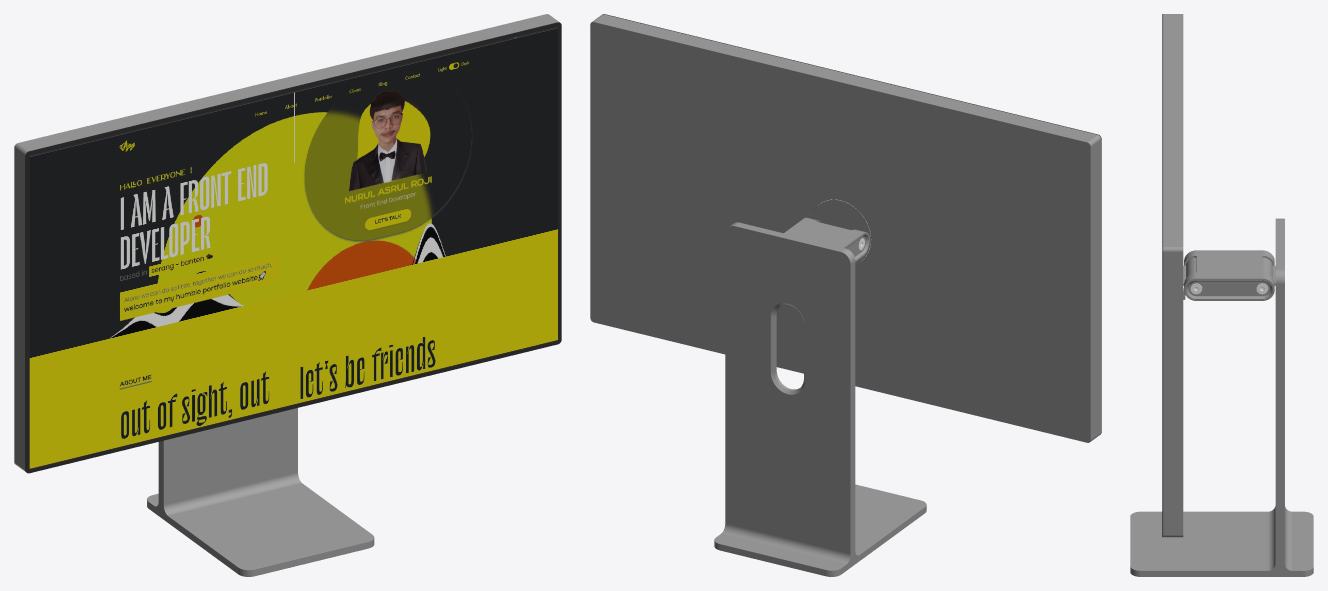
Rendered from porto.glb.
3 renders of one model, left to right at view 1: azimuth 30°, elevation 25°; view 2: azimuth 150°, elevation 25°; view 3: azimuth 270°, elevation 25°, orthographic. The views are drawn at different scales.
Visible parts, largest first — view 1: Screen, 1000$ Stand, Display Body, Black Frame; view 2: Display Body, 1000$ Stand, Joint, Black Frame; view 3: 1000$ Stand, Display Body, Joint, Black Frame.
Part boxes in pixels (<box>): Screen: <box>29,26,557,468</box>; 1000$ Stand: <box>147,408,374,576</box>; Display Body: <box>14,14,558,471</box>; Black Frame: <box>25,22,561,473</box>; Display Body: <box>590,14,1101,442</box>; 1000$ Stand: <box>714,222,926,576</box>; Joint: <box>784,199,870,263</box>; Black Frame: <box>603,14,1101,434</box>; 1000$ Stand: <box>1130,218,1313,576</box>; Display Body: <box>1163,14,1183,537</box>; Joint: <box>1183,250,1275,300</box>; Black Frame: <box>1162,14,1162,537</box>.
Bounding box in the file's own units: 0.718 × 0.593 × 0.236.
5 materials, 1 textured.
